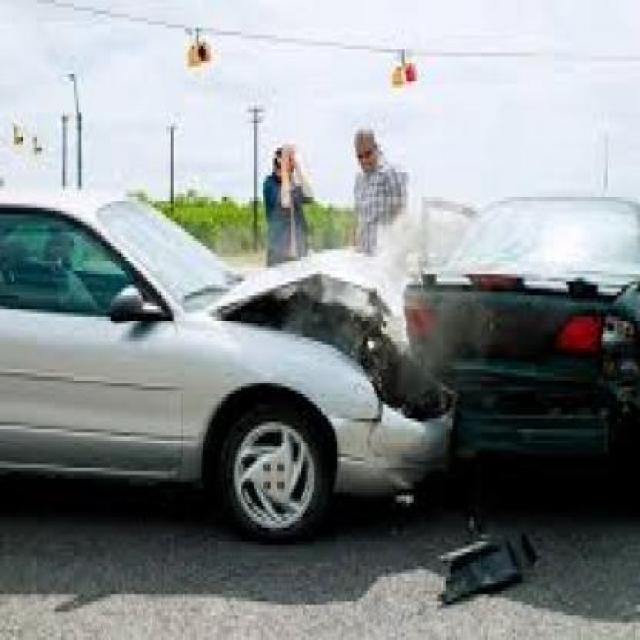accident: (172, 150, 640, 556)
